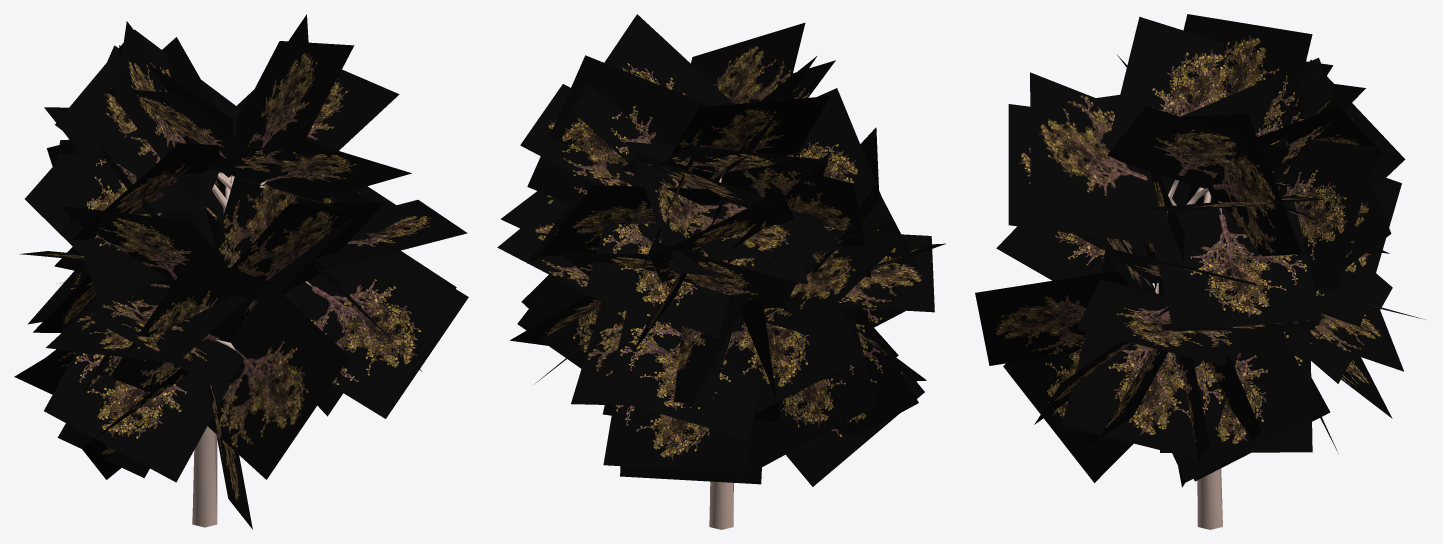
The model's file is tree44.glb.
3 renders of one model, left to right at view 1: azimuth 30°, elevation 25°; view 2: azimuth 150°, elevation 25°; view 3: azimuth 270°, elevation 25°, orthographic. The views are drawn at different scales.
Size of the model in its own units: 6.26 by 6.88 by 5.95.
Materials: 2 (1 with a texture image).
